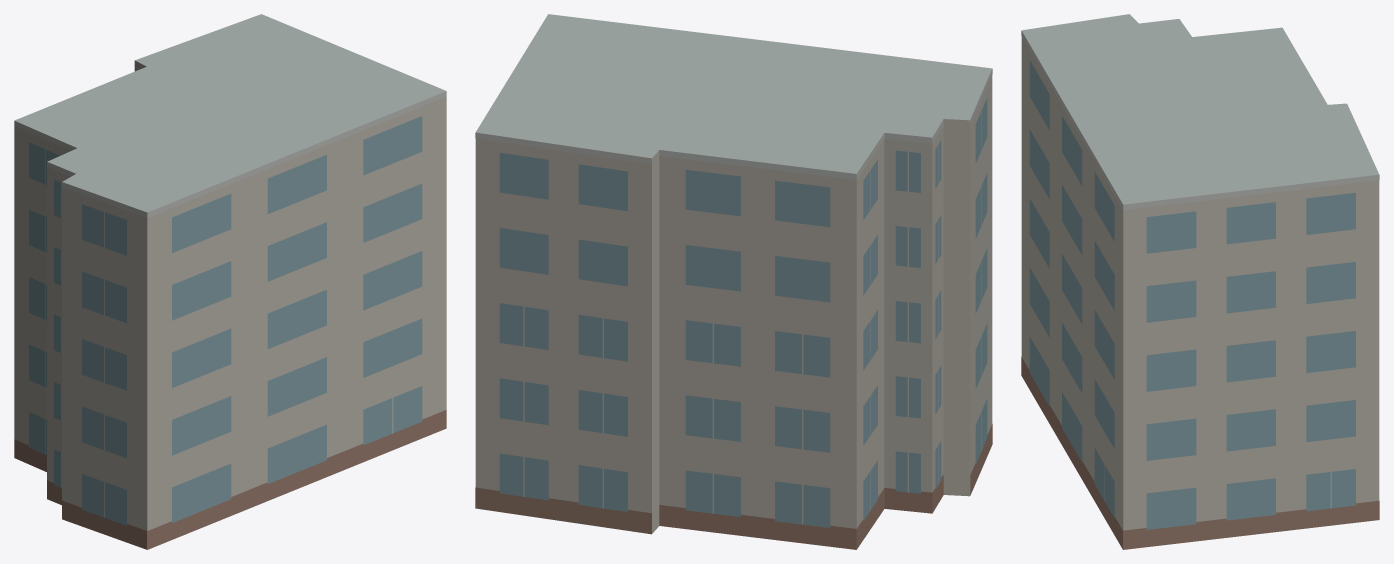
File: survey-upis-32672436.glb
The picture shows the model from 3 angles, left to right: view 1: azimuth 30°, elevation 25°; view 2: azimuth 150°, elevation 25°; view 3: azimuth 270°, elevation 25°; orthographic projection. The views are drawn at different scales.
Parts seen in each view (by area): view 1: survey-upis-32672436.tmp; view 2: survey-upis-32672436.tmp; view 3: survey-upis-32672436.tmp.
Boxes of the visible parts, bbox=[...] form: survey-upis-32672436.tmp: bbox=[14, 14, 446, 549]; survey-upis-32672436.tmp: bbox=[475, 14, 992, 549]; survey-upis-32672436.tmp: bbox=[1021, 14, 1379, 549].
Size of the model in its own units: 18.06 by 15.25 by 14.34.
